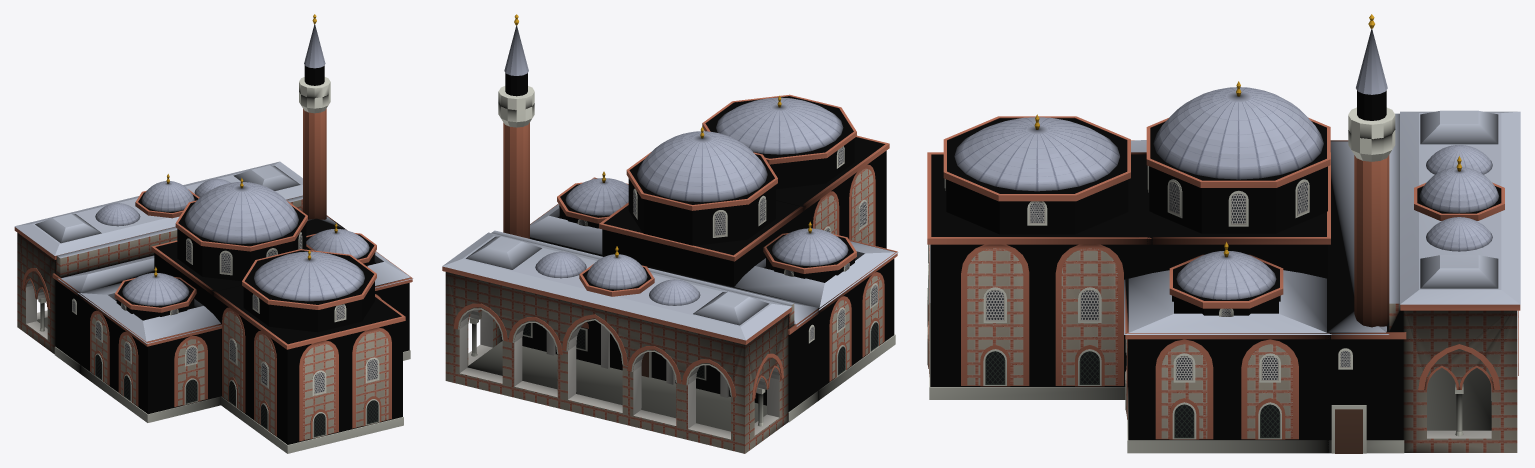
Rendered from orhan-bey-camii_v04.glb.
The picture shows the model from 3 angles, left to right: view 1: azimuth 30°, elevation 25°; view 2: azimuth 150°, elevation 25°; view 3: azimuth 270°, elevation 25°; orthographic projection. The views are drawn at different scales.
Visible parts, largest first — view 1: Cepheler, Kubbe_SonCemaat, Kubbe_Ana, Cami_Mihrap, Kubbe_Mihrap, Cati_Kanatlar, Cami_Kanat_B, Cami_Koridor, Minare_1, Kasnak_Detay, Kaide_Bant, Sacak (+5 smaller); view 2: Cami_SonCemaat, Kubbe_SonCemaat, Kubbe_Ana, Kubbe_Mihrap, Cepheler, Revak_Ic, Cati_Kanatlar, Cami_Koridor, Cami_Harim, Minare_1, Sacak, Kasnak_Detay (+7 smaller); view 3: Cepheler, Kubbe_SonCemaat, Kubbe_Ana, Kubbe_Mihrap, Cami_Mihrap, Cati_Kanatlar, Cami_SonCemaat, Minare_1, Cami_Kanat_D, Cami_Koridor, Sacak, Kasnak_Detay (+5 smaller).
Boxes of the visible parts, x1,y1,x2,y2 form: Cepheler: (72,232,391,441); Kubbe_SonCemaat: (14,161,302,255); Kubbe_Ana: (177,182,306,281); Cami_Mihrap: (214,285,402,444); Kubbe_Mihrap: (243,250,374,332); Cati_Kanatlar: (58,216,413,343); Cami_Kanat_B: (81,298,221,414); Cami_Koridor: (55,196,302,364); Minare_1: (299,14,330,219); Kasnak_Detay: (114,174,376,312); Kaide_Bant: (54,346,410,453); Sacak: (14,195,412,349); Cami_SonCemaat: (445,272,788,453); Kubbe_SonCemaat: (442,232,791,340); Kubbe_Ana: (628,131,775,245); Kubbe_Mihrap: (705,96,854,189); Cepheler: (577,146,884,381); Revak_Ic: (467,317,766,431); Cati_Kanatlar: (530,178,898,326); Cami_Koridor: (491,230,817,411); Cami_Harim: (602,200,802,286); Minare_1: (498,14,534,238); Sacak: (442,135,897,344); Kasnak_Detay: (557,94,856,296); Cepheler: (927,166,1366,453); Kubbe_SonCemaat: (1400,110,1520,304); Kubbe_Ana: (1149,87,1327,233); Kubbe_Mihrap: (946,117,1128,234); Cami_Mihrap: (930,154,1149,386); Cati_Kanatlar: (1124,140,1389,334); Cami_SonCemaat: (1403,310,1517,452); Minare_1: (1348,14,1395,327); Cami_Kanat_D: (1128,313,1327,440); Cami_Koridor: (1328,113,1403,440); Sacak: (927,140,1520,339); Kasnak_Detay: (943,81,1504,308).
Size of the model in its own units: 26.2 by 27.05 by 33.88.
12 materials, 4 textured.
